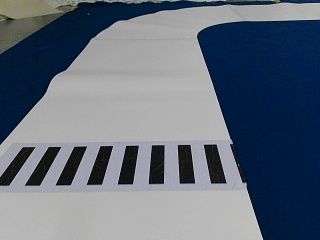crosswalk: (0, 146, 229, 186)
